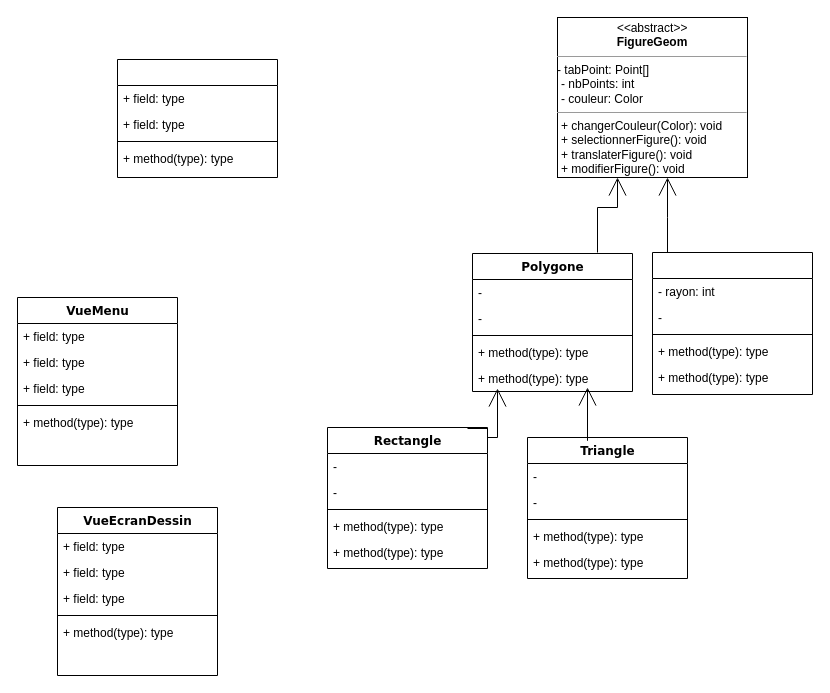
Image size: 830x693. Some labels were removed from this diagram. The box of each missing label's shape, as (x1, y1, x2, y2) in pixels:
Cercle: (652, 252, 812, 394)
ControlGeomForm: (116, 58, 278, 178)
